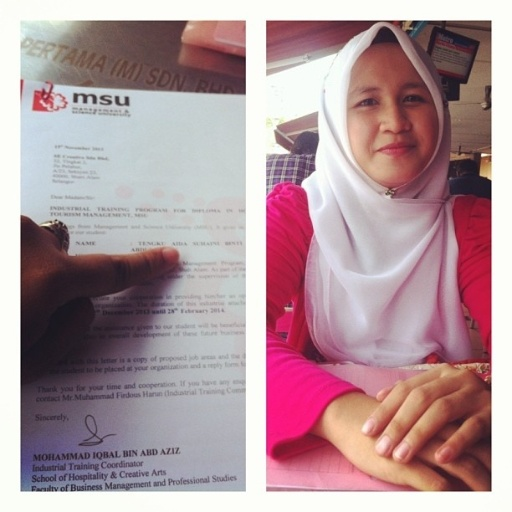hand: (18, 215, 179, 388), (330, 399, 492, 493), (361, 362, 491, 465)
